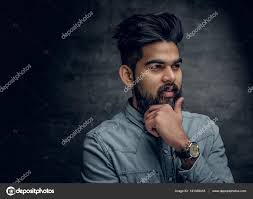Indian_Male: (126, 39, 191, 116)
